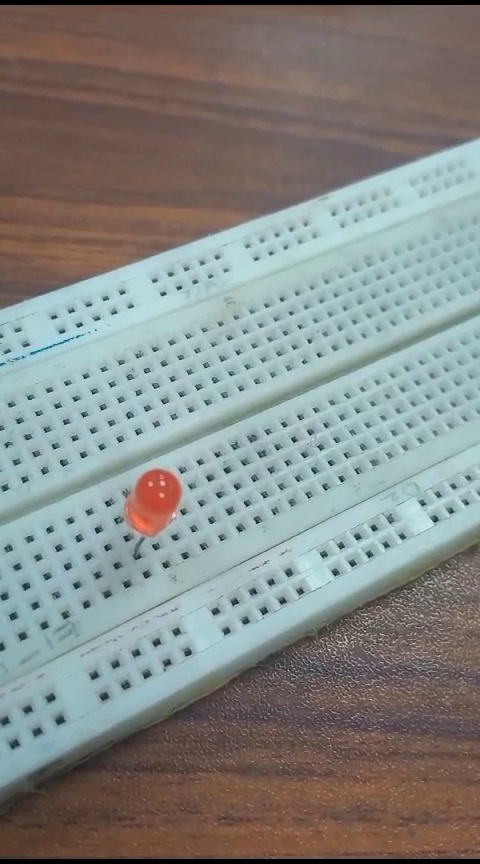LED: (114, 472, 179, 575)
